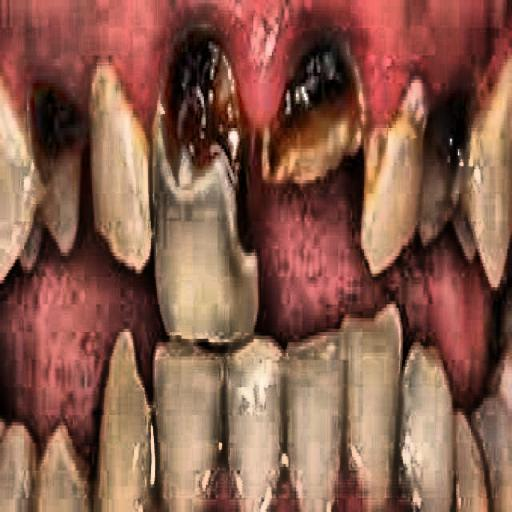Caries: (138, 16, 258, 246), (23, 58, 129, 216), (264, 32, 372, 187), (397, 48, 494, 188)
